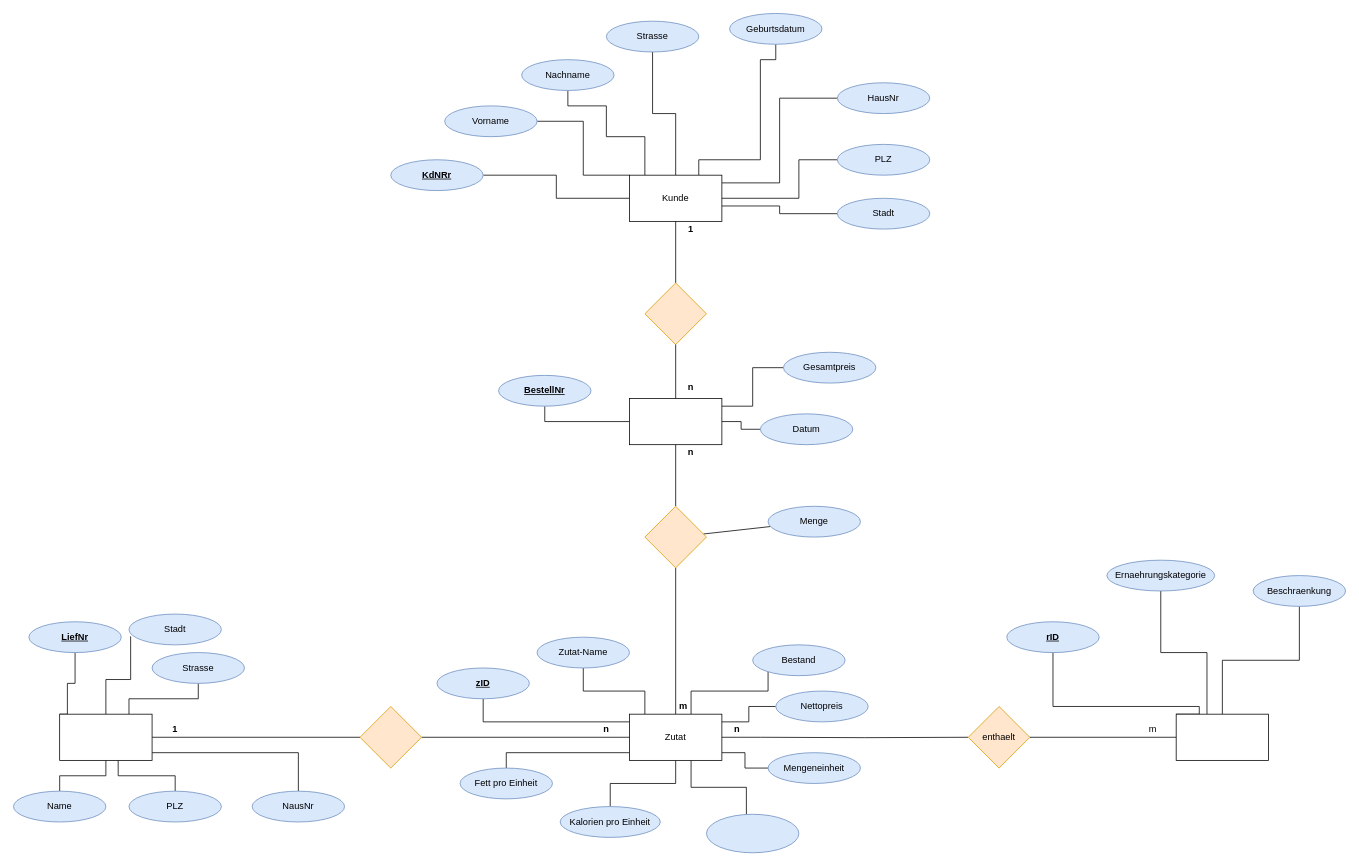
This 1359x866 diagram has some shape labels left out. Each missing label, with the centre of its shape:
"Bestellung" belongs at [675,421].
"enthält" belongs at [675,537].
"Kolenhydrate pro Einheit" belongs at [752,833].
"Lieferant" belongs at [105,736].
"liefert" belongs at [390,737].
"Rezept" belongs at [1222,736].
"tätigt" belongs at [675,313].
